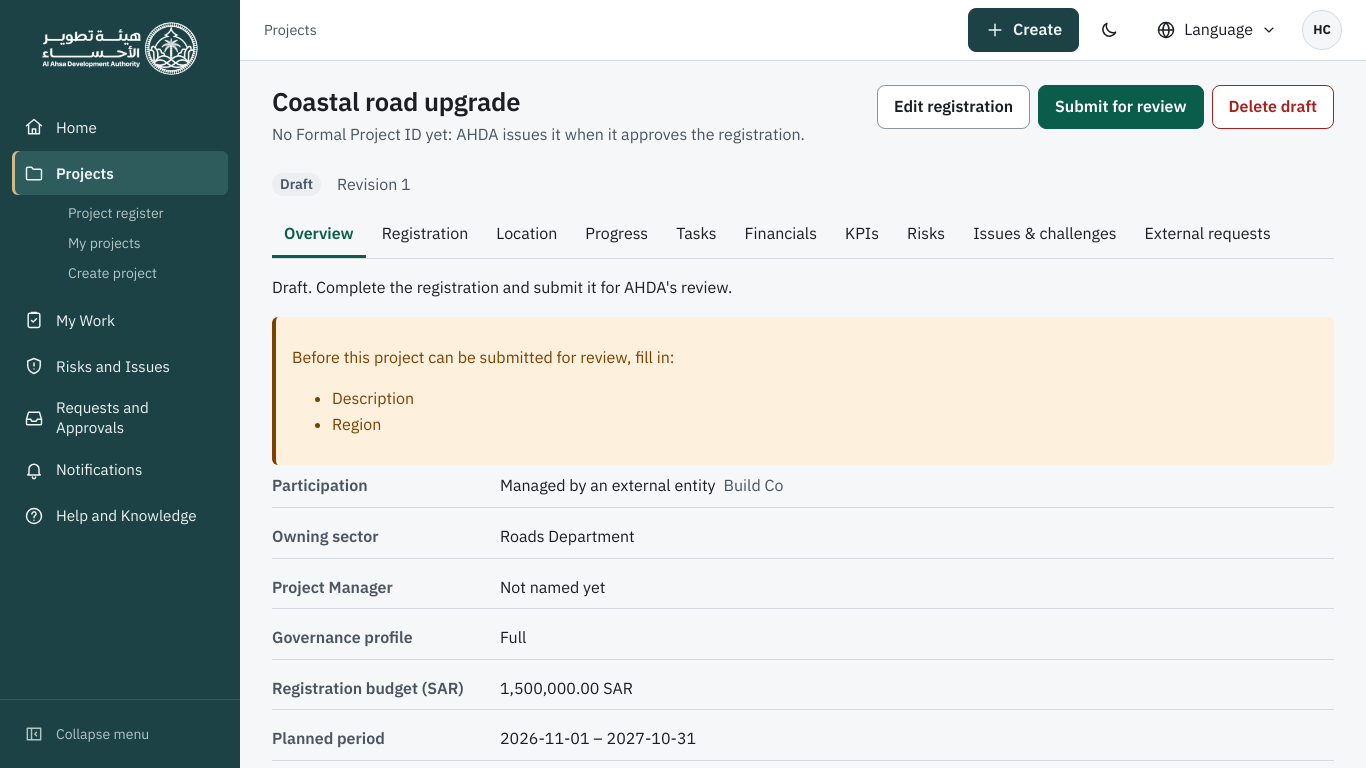
MOD-002 Assign Project Manager (submit for review) › the governance profile’s mandatory fields are needed too (ADR-015)
This screenshot has width=1366, height=768.
Click the button "Submit for review".
click(1121, 107)  # box [1038,85,1204,129]
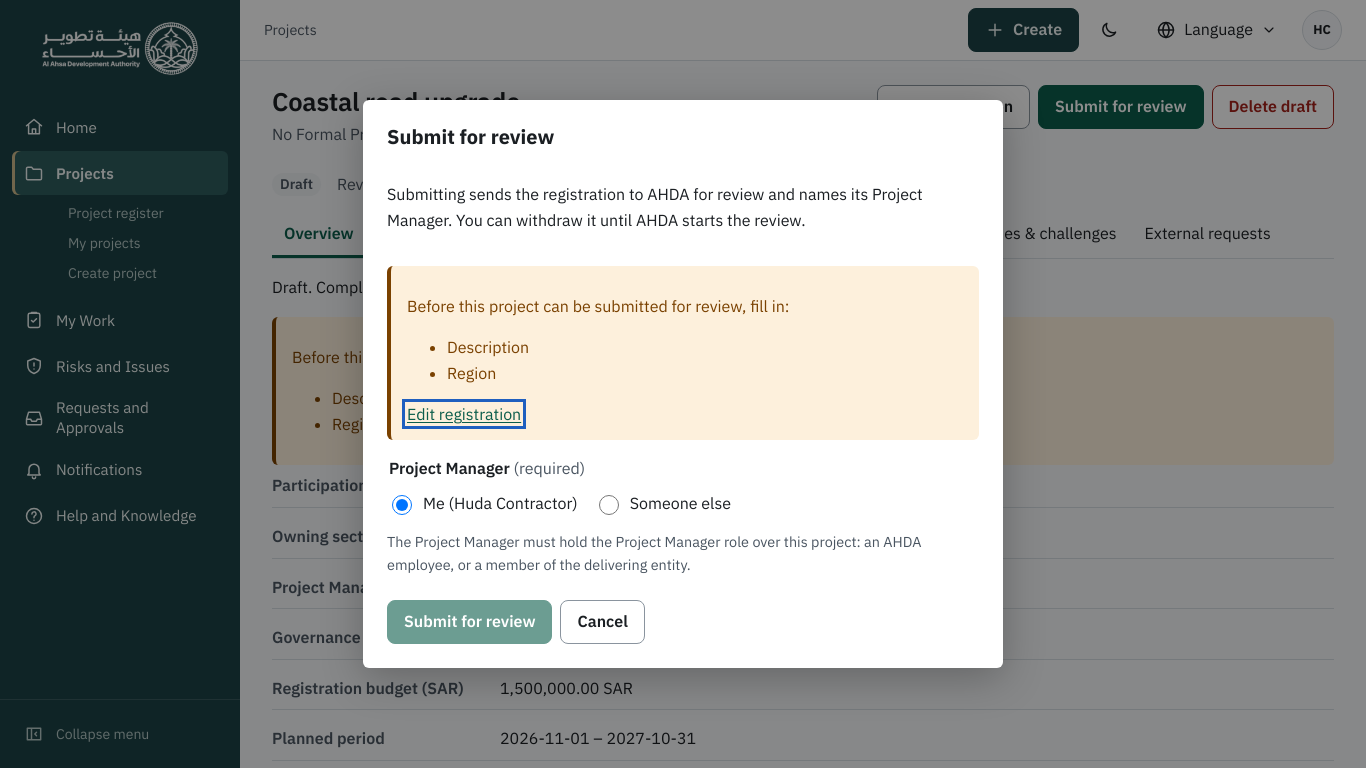
expect the list items read "Description", "Region", in this order: met, box [447,337,529,357]; [447,363,496,383]
expect the button "Submit for review" is disabled: met, box [387,600,552,644]
